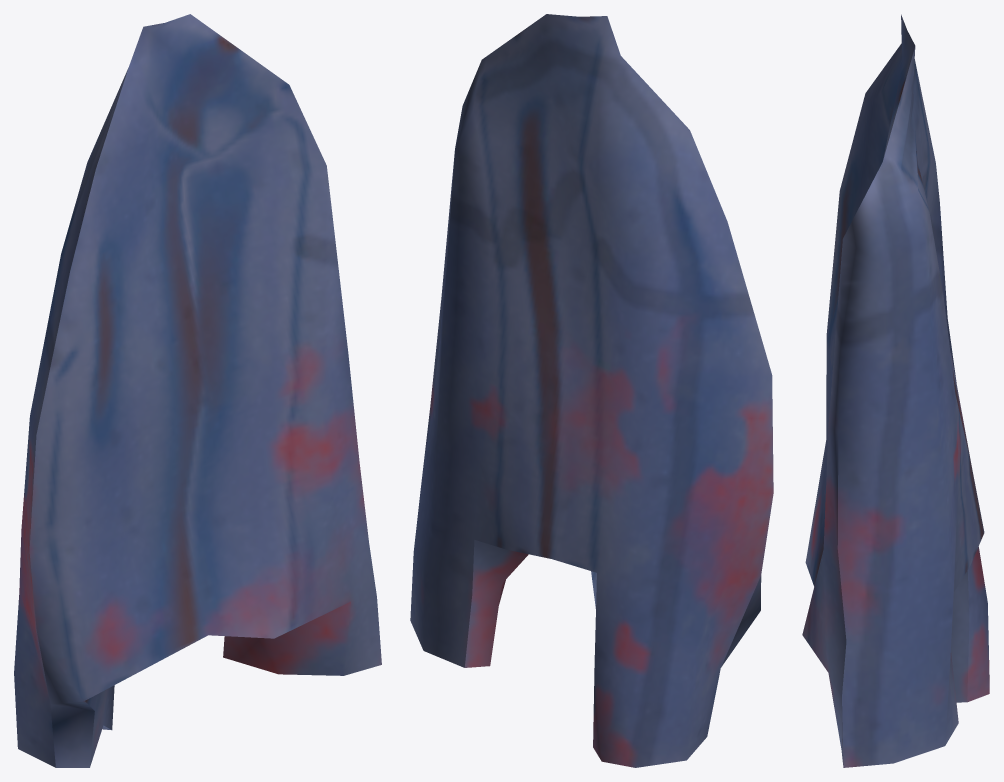
Rendered from Prfb_Hangclothes__3.fbx.
3 views of the same model, side by side, from view 1: azimuth 30°, elevation 25°; view 2: azimuth 150°, elevation 25°; view 3: azimuth 270°, elevation 25° (orthographic). The views are drawn at different scales.
Parts seen in each view (by area): view 1: Mat_Hangclothes; view 2: Mat_Hangclothes; view 3: Mat_Hangclothes.
Part boxes in pixels (bbox=[...]): Mat_Hangclothes: bbox=[14, 14, 381, 767]; Mat_Hangclothes: bbox=[410, 14, 773, 767]; Mat_Hangclothes: bbox=[802, 14, 989, 767].
Size of the model in its own units: 0.3947 by 0.7679 by 0.1865.
1 material, 1 textured.
